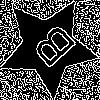B: (23, 21, 78, 77)
